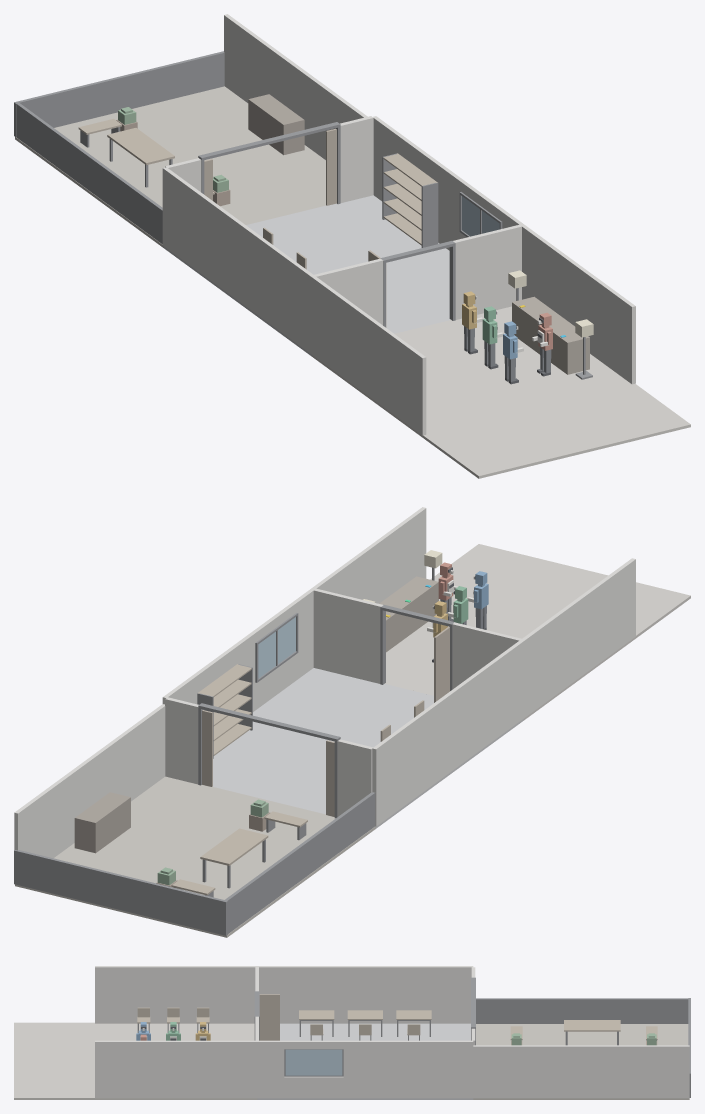
3 views of the same model, one above another, from view 1: azimuth 30°, elevation 25°; view 2: azimuth 150°, elevation 25°; view 3: azimuth 270°, elevation 25° (orthographic). The views are drawn at different scales.
Parts seen in each view (by area): view 1: S01_Floor, S03_Floor, S02_Floor, S02_Wall_West, S01_Wall_West, S01_Wall_East, S03_Wall_East, S03_Railing_North, S03_Railing_West, S01_Wall_North_E, S02_Wall_East, S02_Shared_Shelf (+9 smaller); view 2: S02_Floor, S03_Floor, S01_Floor, S02_Wall_West, S03_Wall_East, S01_Wall_West, S03_Railing_North, S03_Railing_West, S01_Wall_North_E, S01_Wall_East, S02_Wall_East, S02_Shared_Shelf (+12 smaller); view 3: S03_Wall_East, S02_Wall_East, S02_Wall_West, S01_Wall_East, S01_Floor, S01_Wall_West, S03_Railing_West, S03_Floor, S02_Floor, S02_Window, S01_Office_Door, S03_Communal_Table (+8 smaller).
Part boxes in pixels (x1,y1,x2,y2): S01_Floor: (312, 306, 690, 478); S03_Floor: (15, 86, 326, 247); S02_Floor: (163, 195, 450, 356); S02_Wall_West: (162, 167, 314, 353); S01_Wall_West: (311, 276, 426, 435); S01_Wall_East: (521, 224, 635, 384); S03_Wall_East: (224, 14, 367, 159); S03_Railing_North: (14, 51, 224, 136); S03_Railing_West: (16, 102, 162, 243); S01_Wall_North_E: (453, 224, 521, 319); S02_Wall_East: (373, 116, 523, 250); S02_Shared_Shelf: (382, 153, 438, 247); S02_Floor: (212, 668, 523, 828); S03_Floor: (15, 776, 375, 937); S01_Floor: (384, 544, 690, 720); S02_Wall_West: (372, 640, 524, 826); S03_Wall_East: (14, 704, 165, 858); S01_Wall_West: (521, 558, 635, 717); S03_Railing_North: (14, 850, 227, 935); S03_Railing_West: (224, 792, 375, 933); S01_Wall_North_E: (313, 588, 383, 683); S01_Wall_East: (311, 507, 426, 603); S02_Wall_East: (162, 588, 314, 711); S02_Shared_Shelf: (197, 664, 252, 758); S03_Wall_East: (473, 1045, 689, 1098); S02_Wall_East: (257, 1040, 473, 1098); S02_Wall_West: (257, 966, 473, 1023); S01_Wall_East: (95, 1040, 257, 1098); S01_Floor: (14, 1022, 257, 1099); S01_Wall_West: (95, 966, 257, 1023); S03_Railing_West: (476, 998, 689, 1023); S03_Floor: (473, 1024, 689, 1099); S02_Floor: (257, 1023, 473, 1099); S02_Window: (284, 1049, 343, 1076); S01_Office_Door: (259, 994, 279, 1040); S03_Communal_Table: (564, 1020, 620, 1045).
Size of the model in its own units: 6.64 by 2.44 by 25.05.
